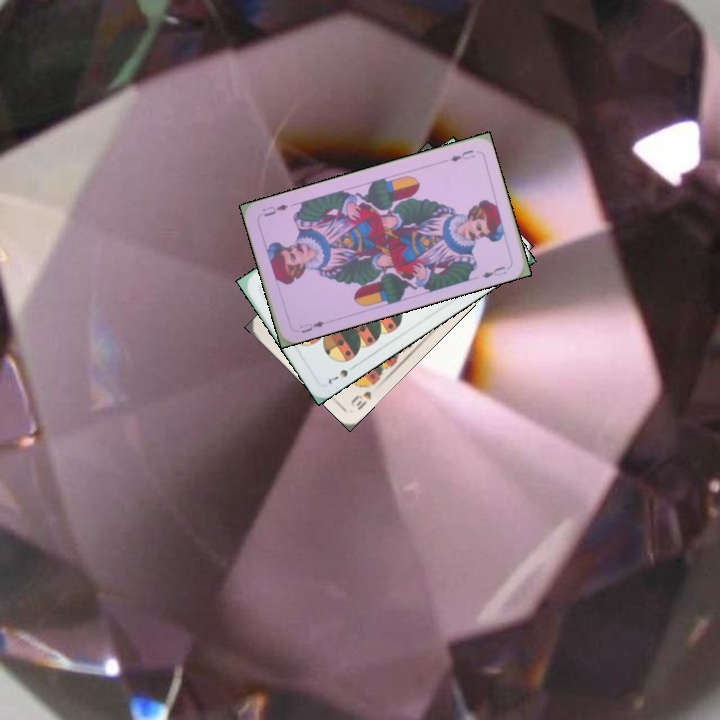EU: (295, 317, 327, 336), (446, 145, 477, 164)
S10: (347, 377, 379, 413)
S7: (324, 361, 359, 388)
